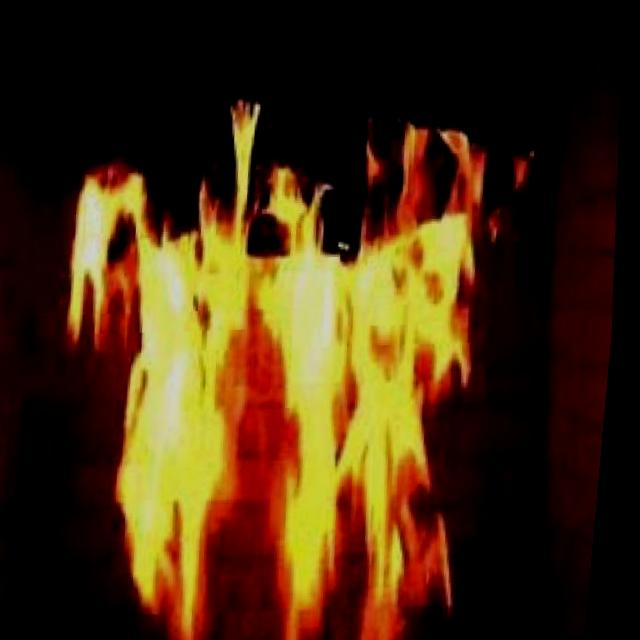helmet: (32, 66, 568, 640)
